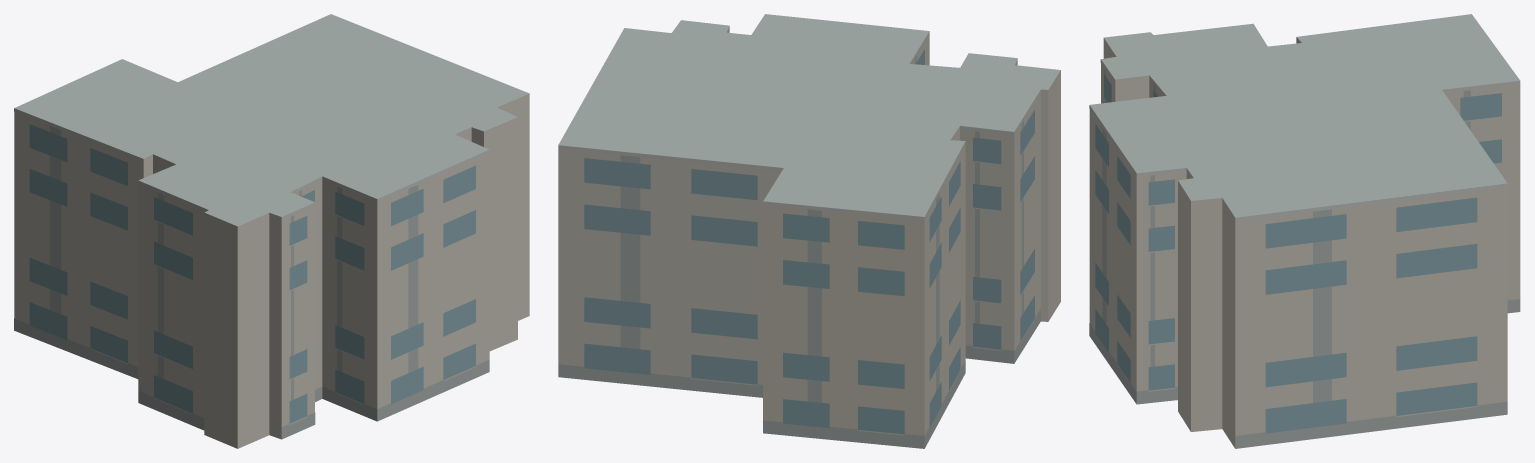
File: survey-upis-32674609.glb
3 views of the same model, side by side, from view 1: azimuth 30°, elevation 25°; view 2: azimuth 150°, elevation 25°; view 3: azimuth 270°, elevation 25° (orthographic). The views are drawn at different scales.
Parts seen in each view (by area): view 1: survey-upis-32674609.tmp; view 2: survey-upis-32674609.tmp; view 3: survey-upis-32674609.tmp.
Part boxes in pixels (bbox=[...]): survey-upis-32674609.tmp: bbox=[14, 14, 529, 448]; survey-upis-32674609.tmp: bbox=[558, 14, 1060, 448]; survey-upis-32674609.tmp: bbox=[1089, 14, 1520, 448].
Size of the model in its own units: 28.83 by 15.25 by 25.77.
